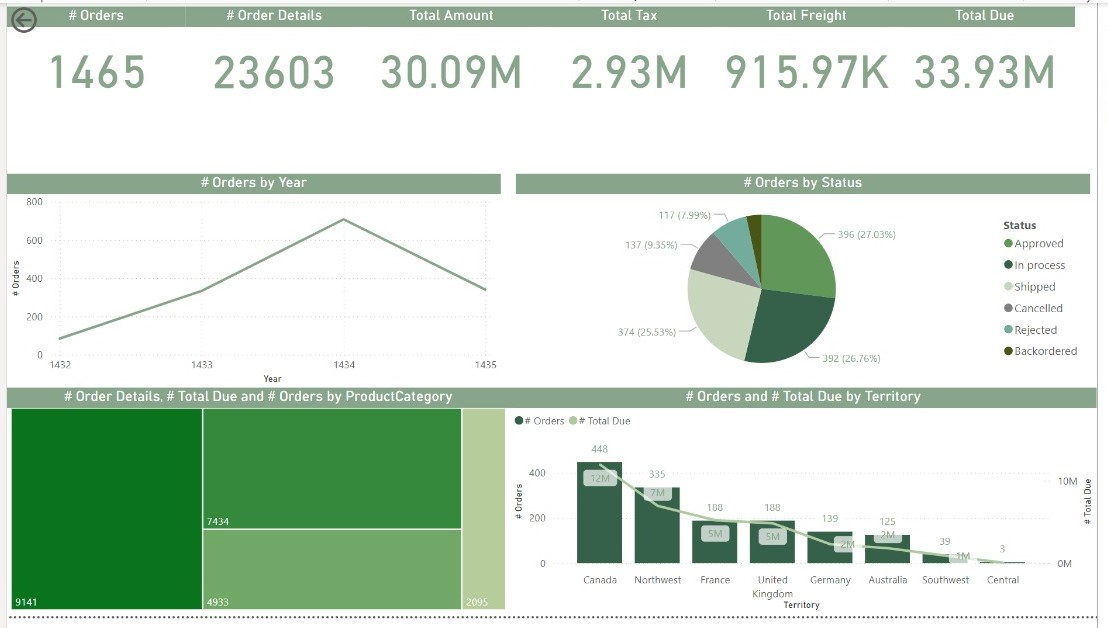

The page's visual inventory and layout, read from the dashboard file:
{"tool":"powerbi","page":{"name":"Page ١","canvas":[1280,720],"ordinal":0},"visuals":[{"type":"card","title":"# Orders","fields":{"Values":["Sales.# Orders"]},"box":[0,3.6,210,120],"z":0},{"type":"card","title":"# Order Details","fields":{"Values":["Sales.# Order Details"]},"box":[210.1,4.1,207.4,120.9],"z":1000},{"type":"card","title":"Total Amount ","fields":{"Values":["Sales.# Total Amount"]},"box":[417.5,4.1,208.8,119.5],"z":2000},{"type":"card","title":"Total Tax","fields":{"Values":["Sales.# Total Tax"]},"box":[626.3,4.1,208.8,119.5],"z":3000},{"type":"card","title":"Total Freight ","fields":{"Values":["Sales.# Total Freight"]},"box":[835,4.1,207.4,119.5],"z":4000},{"type":"card","title":"Total Due ","fields":{"Values":["Sales.# Total Due"]},"box":[1042.4,4.1,211.5,119.5],"z":5000},{"type":"lineChart","fields":{"Y":["Dax Measure.# Orders"],"Category":["Sales.OrderDate.Variation.Date Hierarchy.Year","Sales.OrderDate.Variation.Date Hierarchy.Quarter","Sales.OrderDate.Variation.Date Hierarchy.Month","Sales.OrderDate.Variation.Date Hierarchy.Day"]},"box":[0,200.6,579.8,251.6],"z":6000},{"type":"treemap","fields":{"Values":["Dax Measure.# Order Details"],"Group":["Sales.ProductCategory Hierarchy.ProductCategory","Sales.ProductCategory Hierarchy.ProductSubCategory","Sales.ProductCategory Hierarchy.Product"]},"box":[0,452.2,590.8,266.2],"z":7000},{"type":"pieChart","fields":{"Category":["Sales.Status"],"Y":["Dax Measure.# Orders"]},"box":[598.1,200.6,674.6,251.6],"z":8000},{"type":"lineStackedColumnComboChart","fields":{"Category":["Sales.Territory"],"Y":["Dax Measure.# Orders"],"Y2":["Dax Measure.# Total Due"]},"box":[590.8,452.2,689.2,266.2],"z":9000},{"type":"actionButton","box":[0,0,100,40],"z":9001}]}

Visuals, with their boxes in screenshot pixels (x1, y1, x2, y2), scaled from the page's 1280x720 canvas onto the 1108x628 screenshot:
"# Orders" card: bbox=(0, 3, 182, 108)
"# Order Details" card: bbox=(182, 4, 361, 109)
"Total Amount " card: bbox=(361, 4, 542, 108)
"Total Tax" card: bbox=(542, 4, 723, 108)
"Total Freight " card: bbox=(723, 4, 902, 108)
"Total Due " card: bbox=(902, 4, 1085, 108)
lineChart - Dax Measure.# Orders x Sales.OrderDate.Variation.Date Hierarchy.Year: bbox=(0, 175, 502, 394)
treemap - Dax Measure.# Order Details x Sales.ProductCategory Hierarchy.ProductCategory: bbox=(0, 394, 511, 627)
pieChart - Sales.Status x Dax Measure.# Orders: bbox=(518, 175, 1102, 394)
lineStackedColumnComboChart - Sales.Territory x Dax Measure.# Orders: bbox=(511, 394, 1107, 627)
actionButton: bbox=(0, 0, 87, 35)
